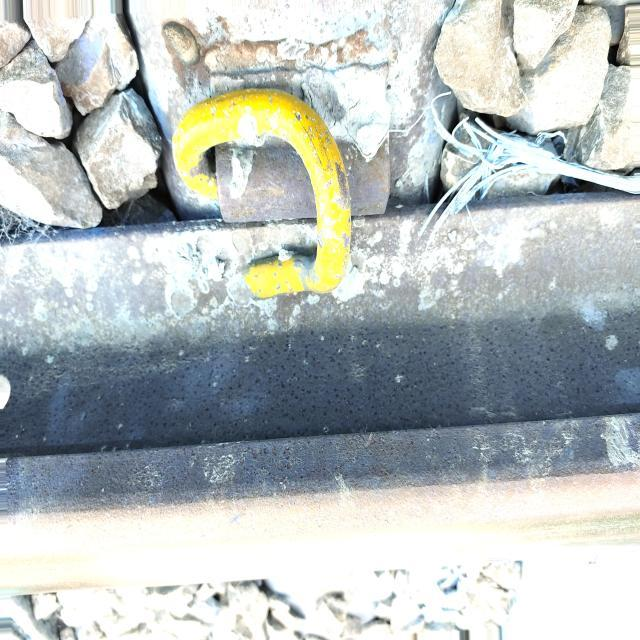Good Fasteners: (166, 64, 391, 298)
